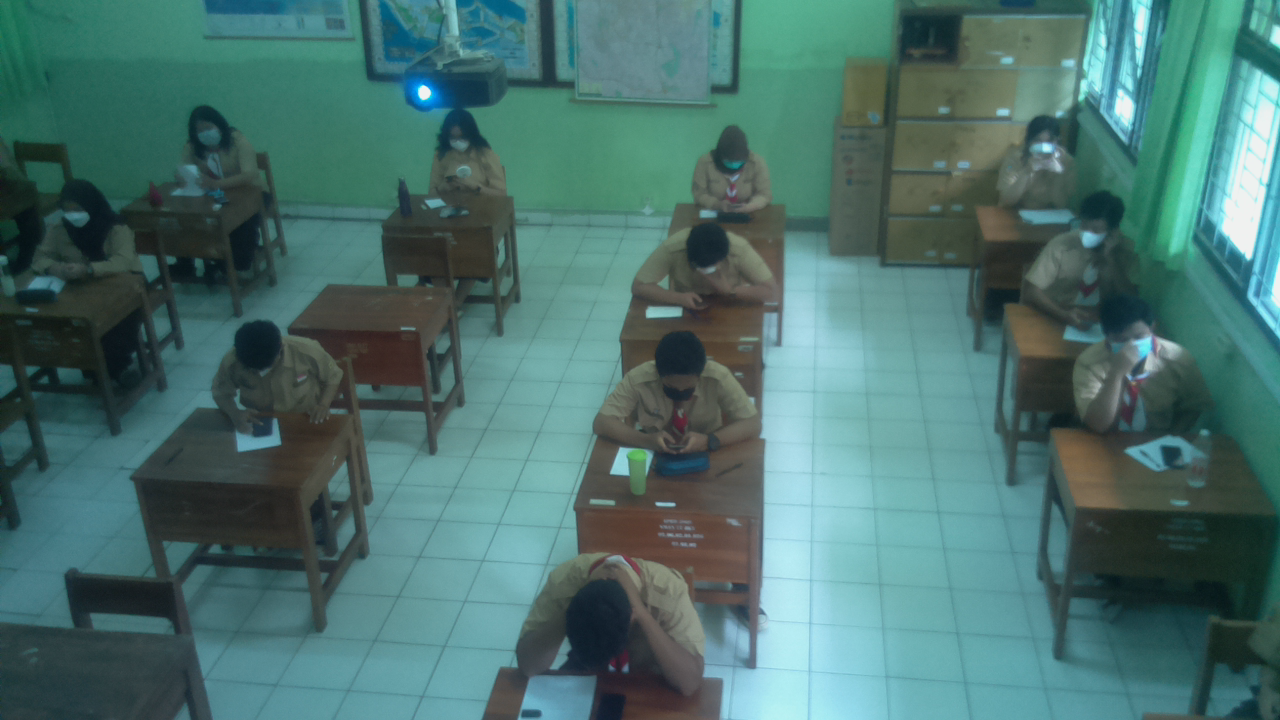Student: (549, 547, 691, 666), (619, 331, 746, 438), (1027, 191, 1137, 308), (1081, 309, 1192, 422), (215, 321, 331, 411), (39, 179, 132, 273), (655, 223, 754, 301), (689, 123, 769, 206), (1003, 113, 1075, 204), (429, 107, 499, 194), (181, 103, 254, 185), (637, 539, 643, 547)
